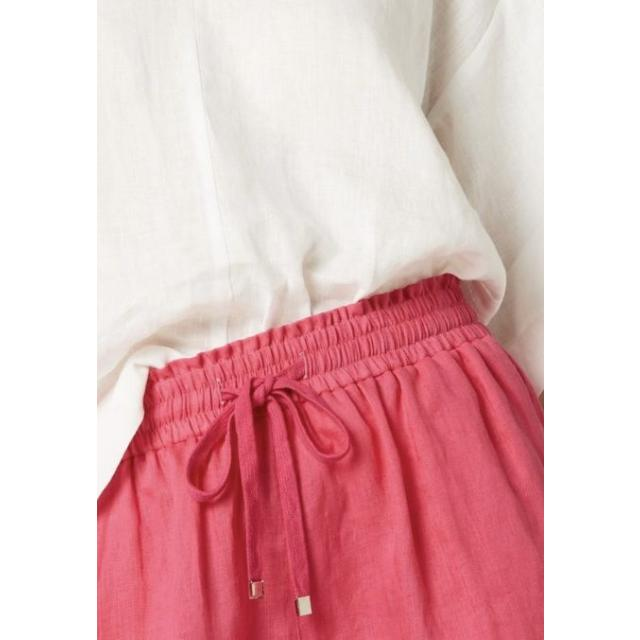linen: (159, 338, 525, 640)
